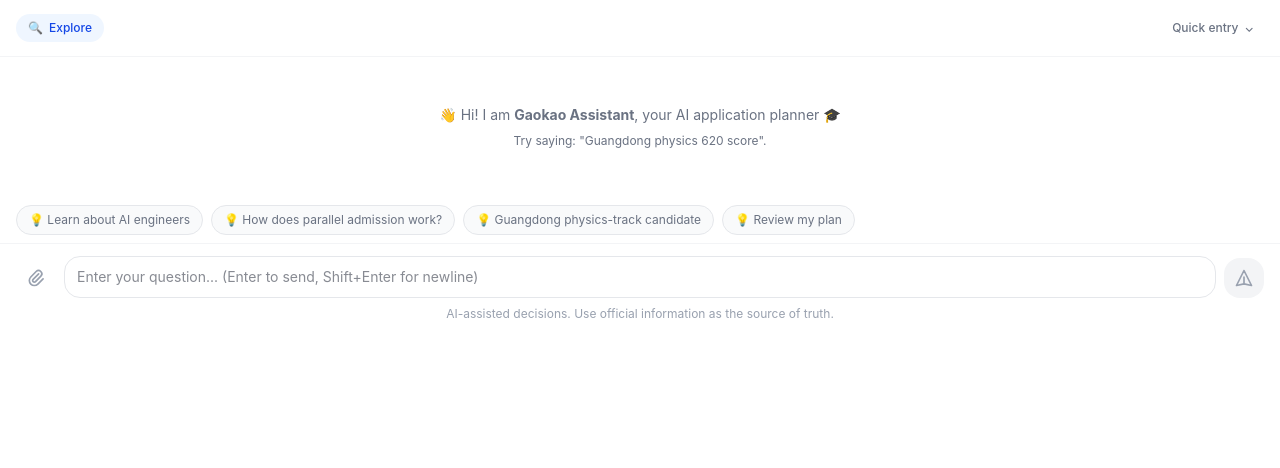
Test: HomePage chat send › renders desktop quick entry dropdown with English labels
Click the button "Quick entry ⌄" at (1213, 28), box [1162,10,1264,46]
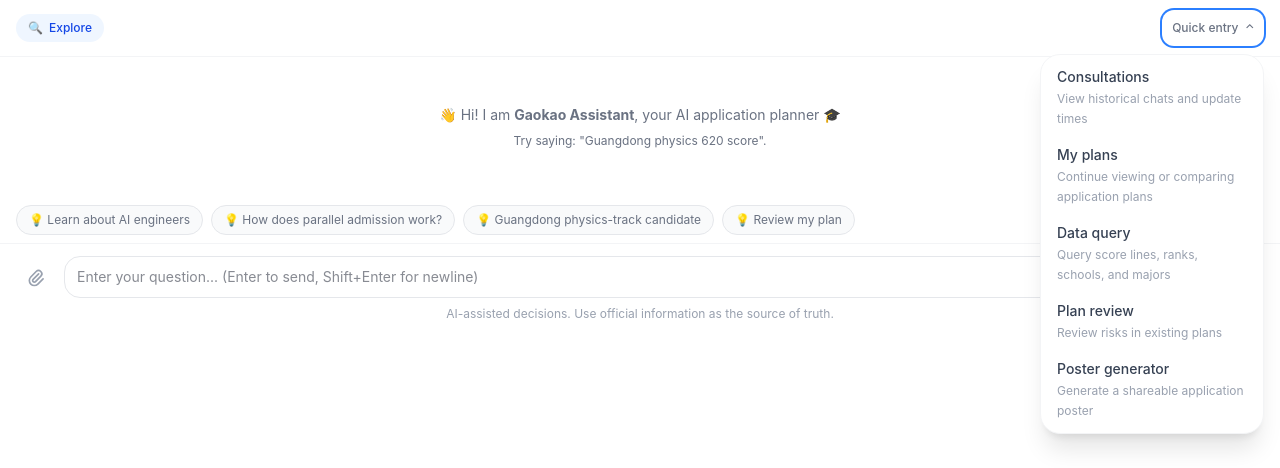
Expected: the menu named "Quick entry" is shown, [1040,54,1264,434]
